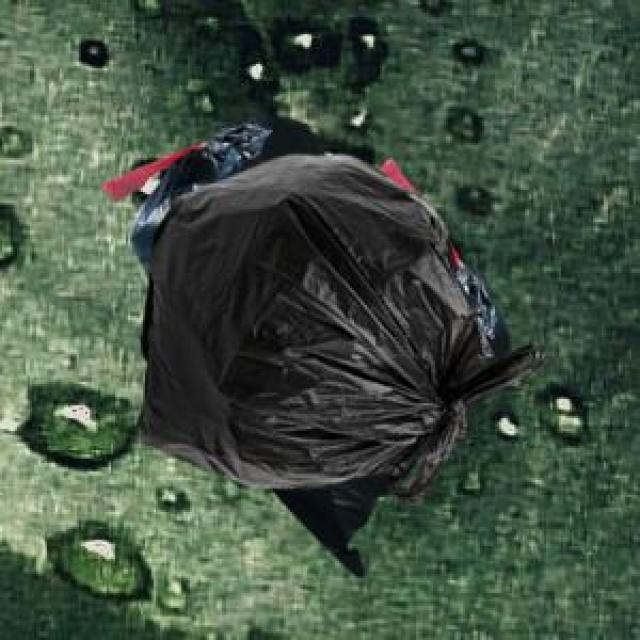Vinyl: (104, 119, 541, 576)
